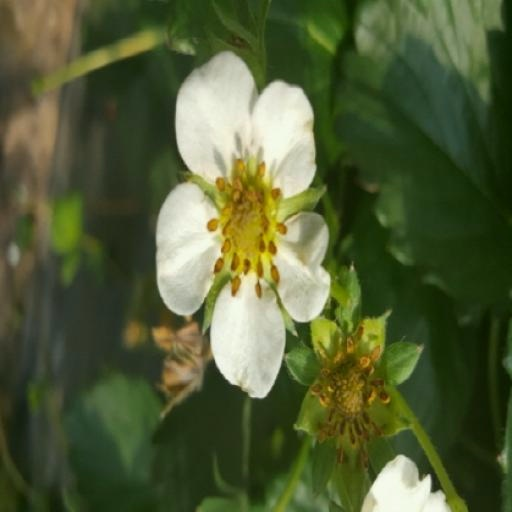Blossom Blight: (218, 210, 309, 357), (120, 40, 205, 186)
